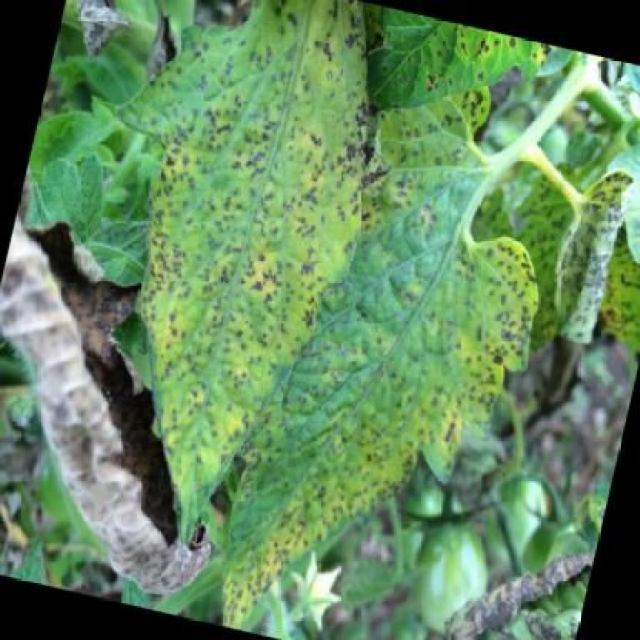Septoria leaf spot: (196, 74, 613, 640), (45, 1, 412, 589)
